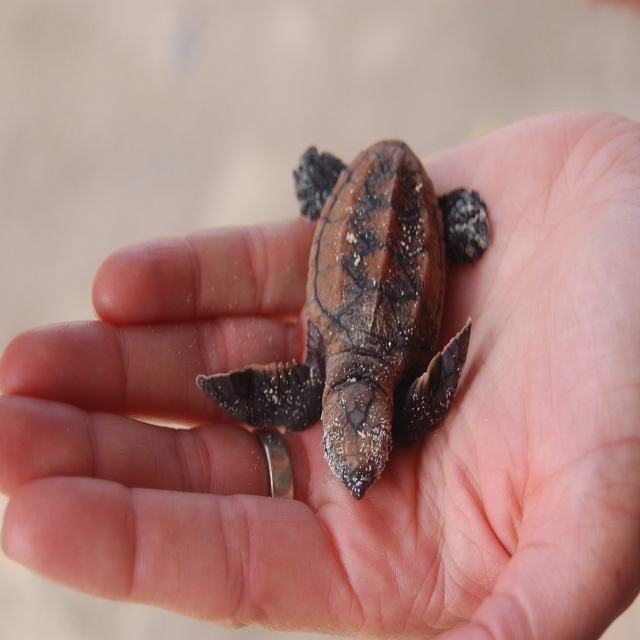Sea turtle: (195, 135, 498, 495)
